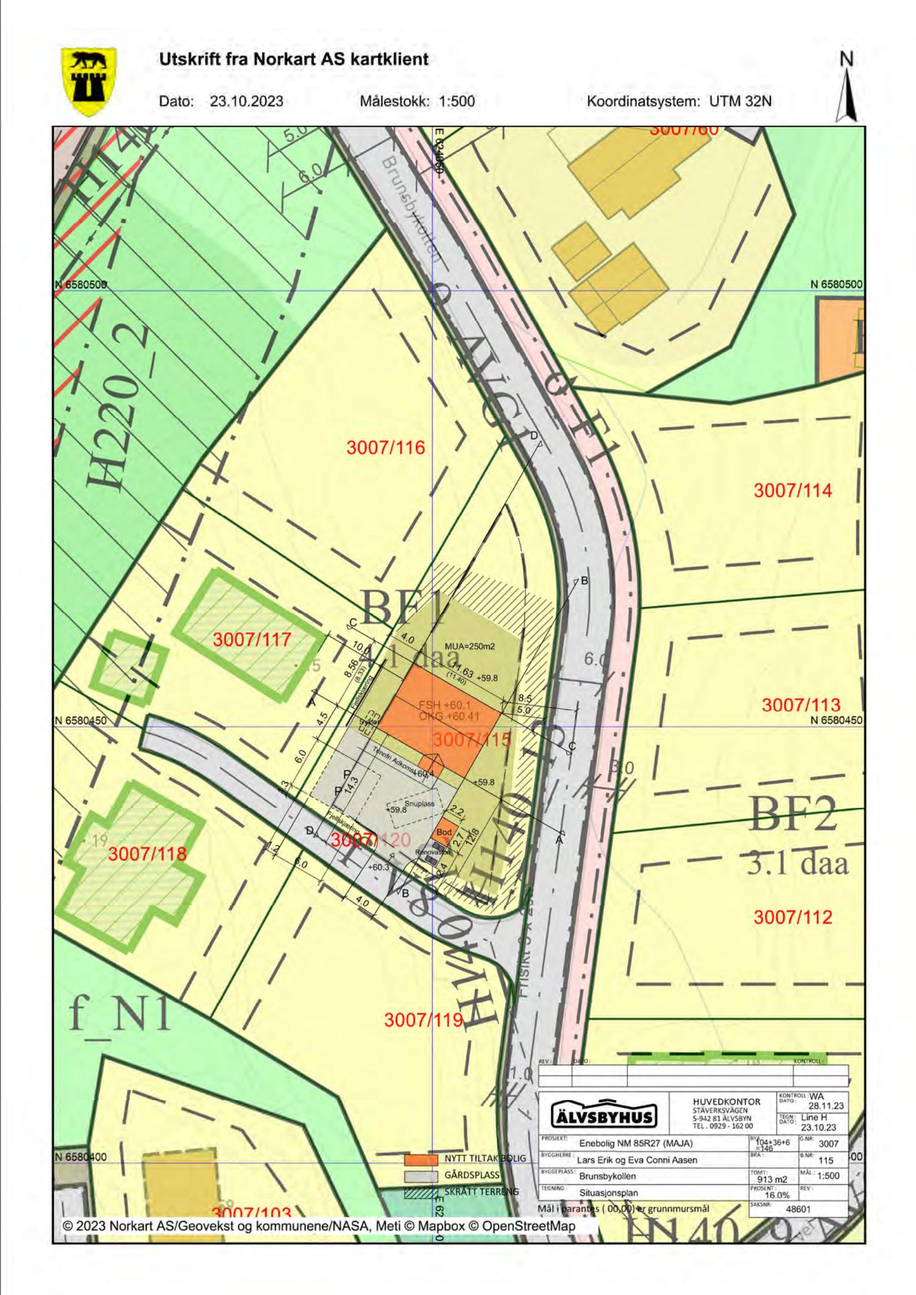situasjonskart: (52, 126, 867, 1245)
